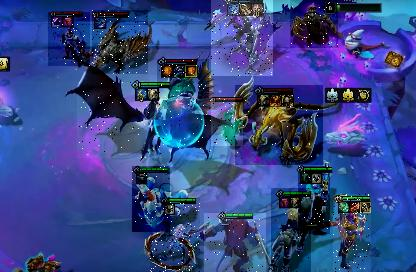1_sylas: (48, 12, 90, 66)
1_terra: (92, 10, 148, 74), (290, 0, 338, 48)
2_graves: (298, 166, 330, 234)
2_idas: (235, 85, 323, 165)
2_nunu: (132, 166, 170, 232)
2_qiyana: (150, 198, 200, 272)
2_rell: (271, 188, 311, 272)
2_rengar: (204, 213, 266, 272)
2_shiohyu: (157, 59, 209, 99)
2_swain: (77, 82, 213, 158)
2_syfen: (211, 0, 273, 76)
3_aphelios: (333, 194, 371, 272)
jade: (211, 98, 243, 146)
